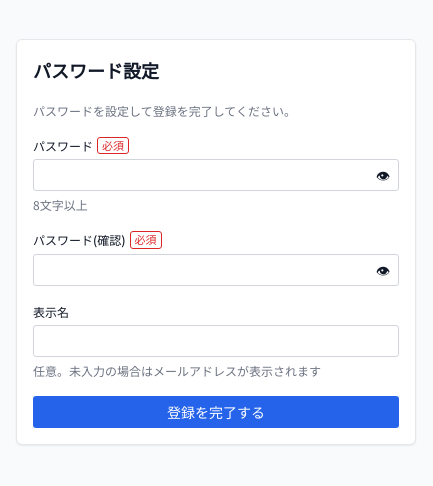
Test: CompletePage › 8文字未満と不一致はクライアント検証エラー
The width and height of the screenshot is (433, 486).
Type "short1" into the password field named "パスワード必須". click: (216, 175)
box: [33,159,399,191]
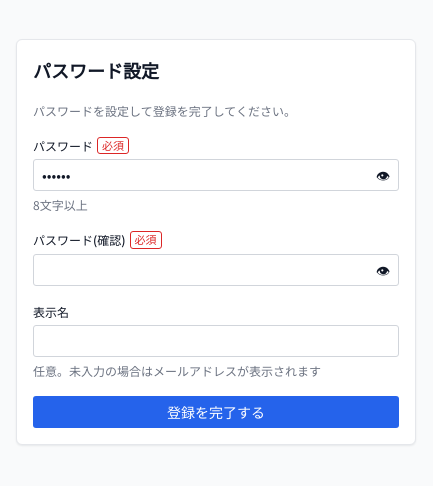
Type "different" into the password field named "パスワード(確認)必須". click: (216, 270)
box: [33,254,399,286]
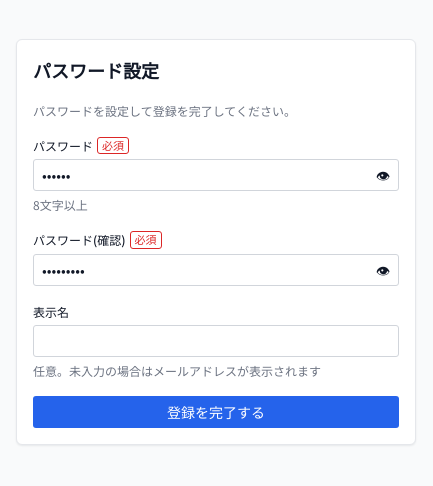
Click the button "登録を完了する". click: (216, 412)
box: [33,396,399,428]
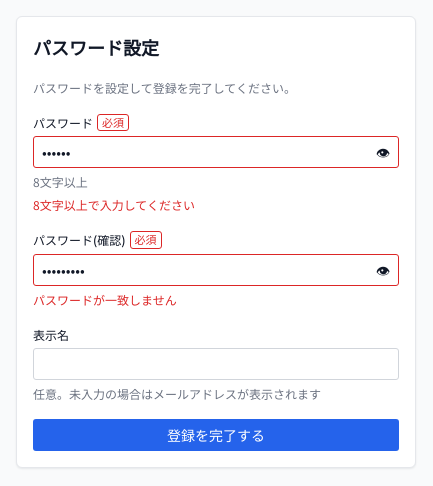
expect the text "8文字以上で入力してください" is shown: met, box [33,196,195,213]
expect the text "パスワードが一致しません" is shown: met, box [33,291,177,308]
